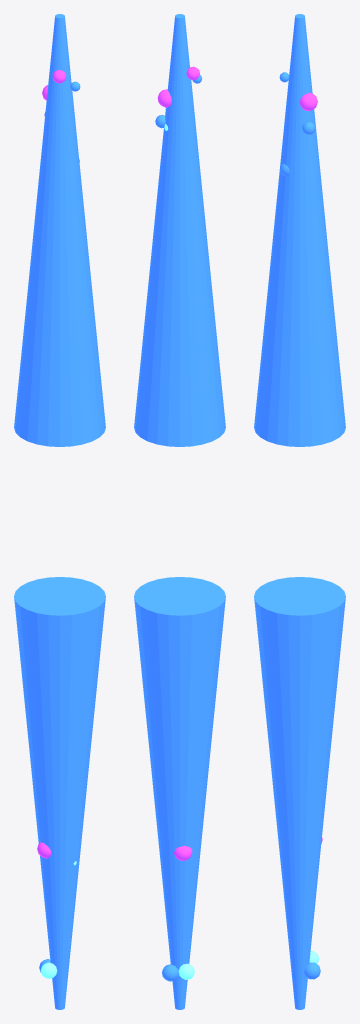
File: relativistic_jets.glb
3 views of the same model, side by side, from view 1: azimuth 90°, elevation 25°; view 2: azimuth 150°, elevation 25°; view 3: azimuth 270°, elevation 25° (orthographic).
Parts seen in each view (by area): view 1: relativistic_jets; view 2: relativistic_jets; view 3: relativistic_jets.
Part boxes in pixels (bbox=[...]): relativistic_jets: bbox=[14, 14, 105, 1009]; relativistic_jets: bbox=[134, 14, 225, 1009]; relativistic_jets: bbox=[254, 14, 345, 1009].
Size of the model in its own units: 0.84 by 10 by 0.84.
